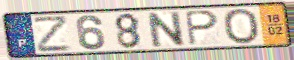6: (74, 14, 107, 51)
8: (113, 12, 144, 50)
N: (145, 10, 187, 49)
O: (222, 7, 262, 45)
P: (183, 9, 221, 47)
Z: (31, 14, 73, 54)
